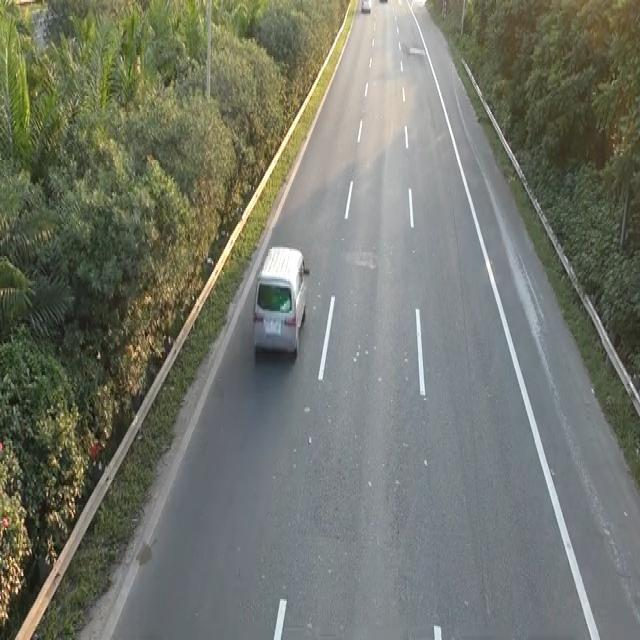lorry: (250, 240, 310, 361)
